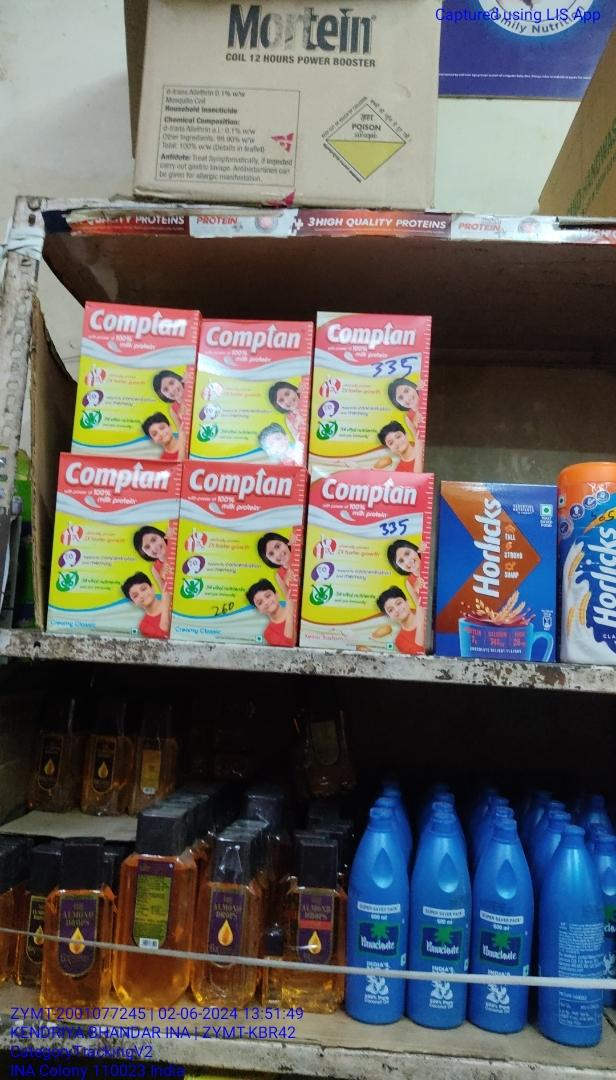HORLICK_CLASSIC_MALT_500_G_JAR: (565, 466, 616, 672)
